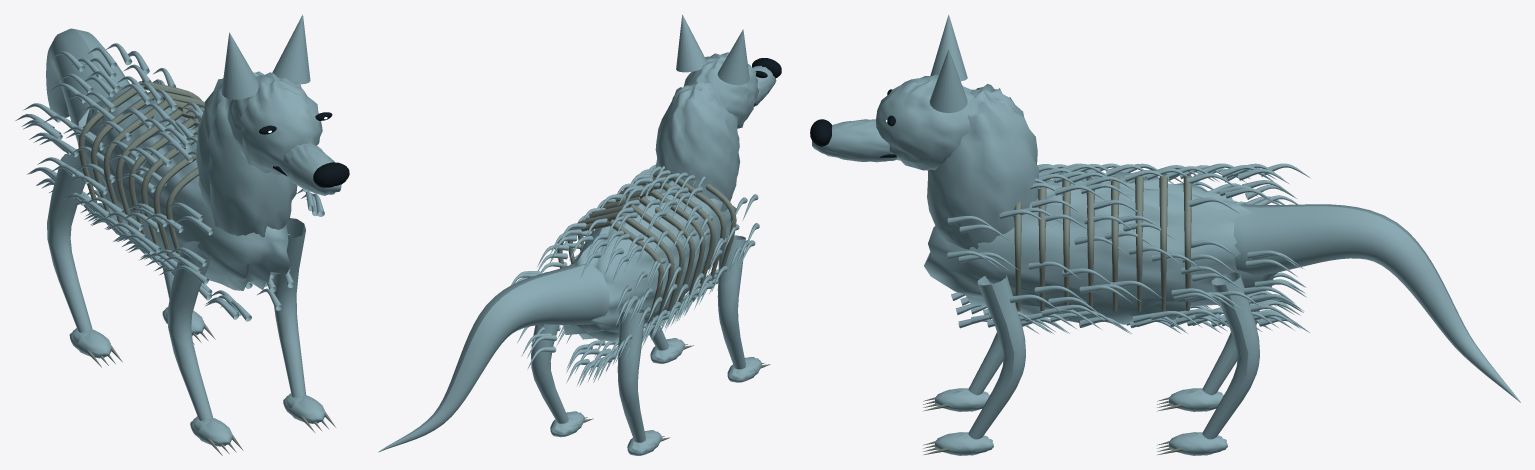
The model's file is 20-the-wolves-hollow.glb.
3 renders of one model, left to right at view 1: azimuth 30°, elevation 25°; view 2: azimuth 150°, elevation 25°; view 3: azimuth 270°, elevation 25°, orthographic. The views are drawn at different scales.
Parts seen in each view (by area): view 1: sculpt (×7); view 2: sculpt (×6); view 3: sculpt (×6).
Boxes of the visible parts, x1=… form: sculpt (×7): x1=15, y1=14, x2=349, y2=446; sculpt (×6): x1=378, y1=14, x2=776, y2=455; sculpt (×6): x1=812, y1=14, x2=1520, y2=455.
Size of the model in its own units: 1.15 by 2.55 by 4.1.
